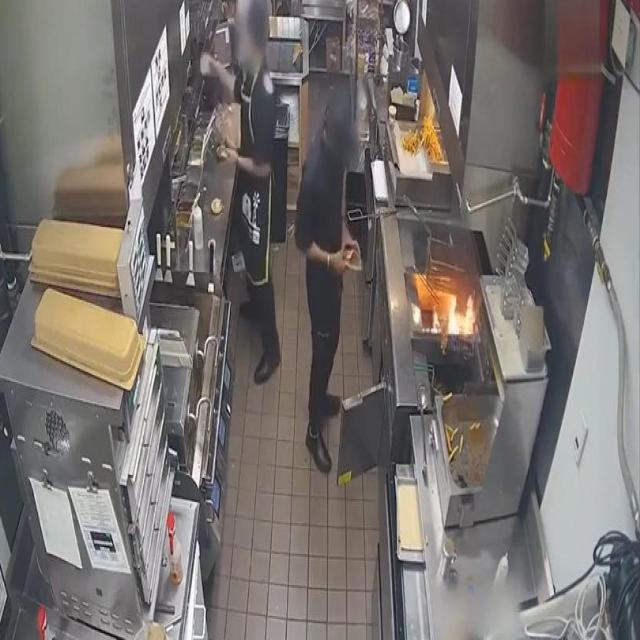smoke: (426, 292, 478, 338)
